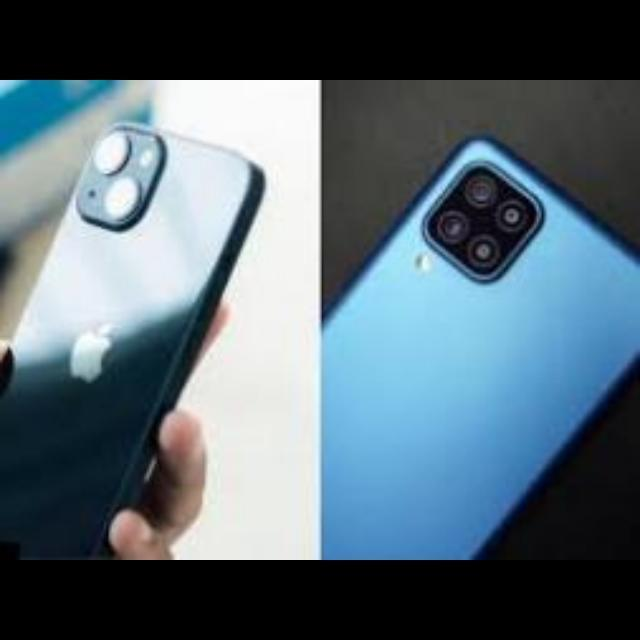PhoneUse: (324, 136, 640, 560), (0, 117, 268, 559)
